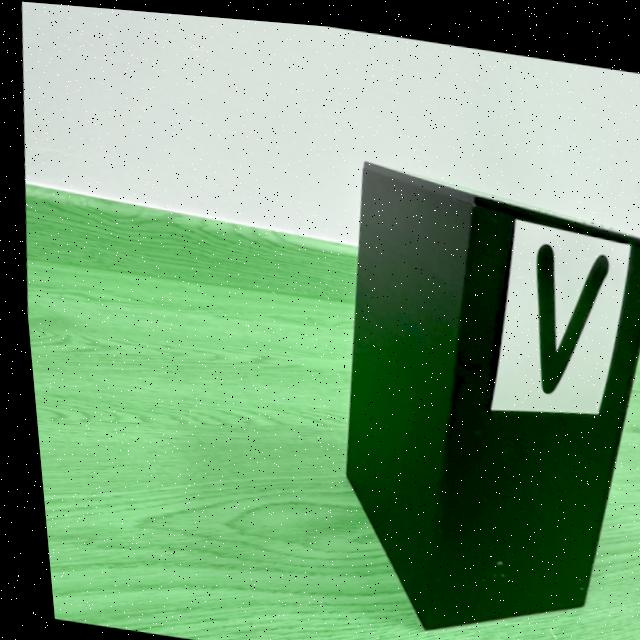V: (532, 234, 604, 385)
